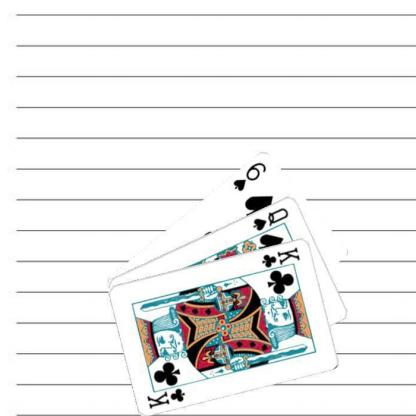6S: (231, 158, 268, 192)
KC: (258, 244, 302, 274), (145, 380, 188, 409)
QS: (250, 204, 290, 232)
